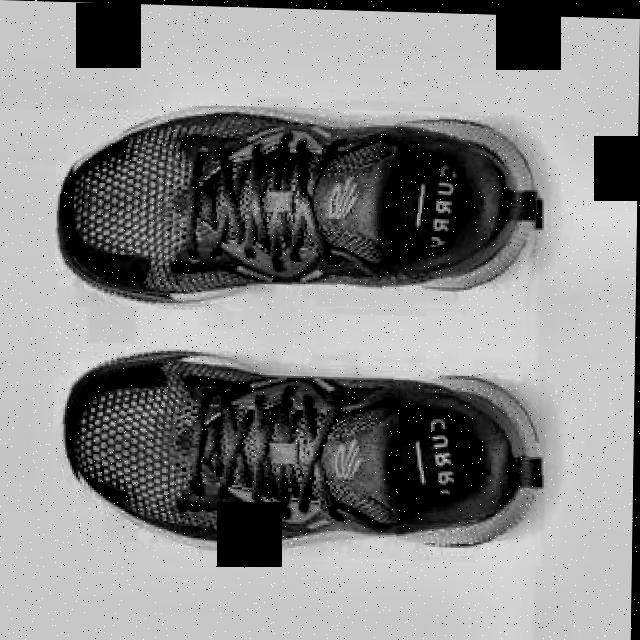shoe: (57, 343, 547, 556), (63, 104, 548, 317), (63, 346, 545, 555), (56, 103, 541, 307)
